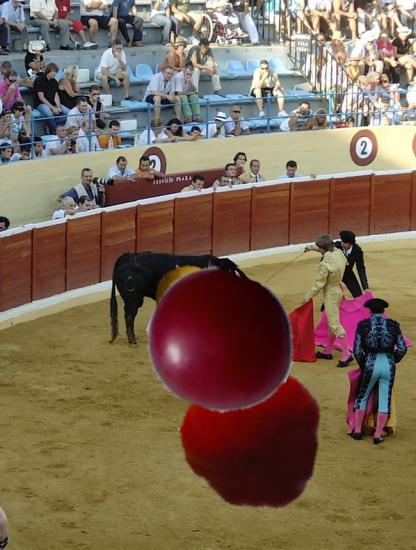Cherry: (147, 267, 297, 417)
Grapefruit: (154, 263, 224, 333)
Tomato: (178, 365, 322, 509)
